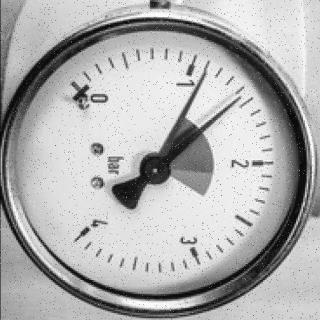gauge: (3, 7, 320, 319), (56, 74, 112, 119), (56, 211, 116, 251), (137, 152, 171, 186), (230, 92, 246, 106), (196, 68, 210, 82)
